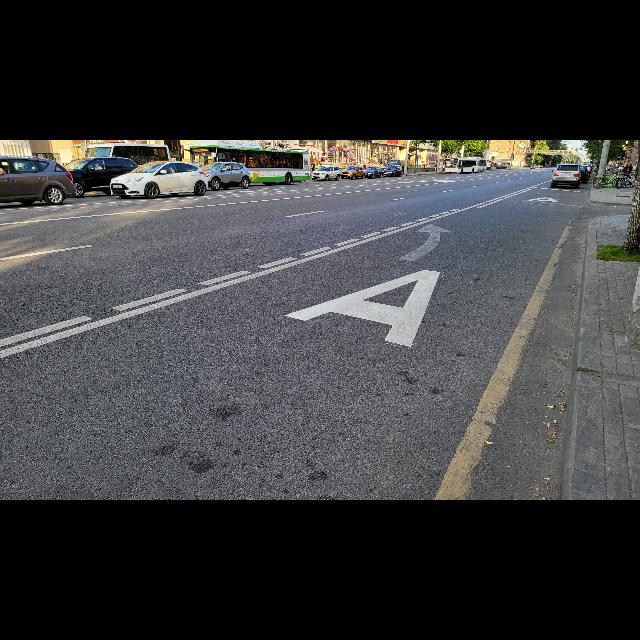road: (0, 169, 591, 500), (0, 343, 22, 357)
